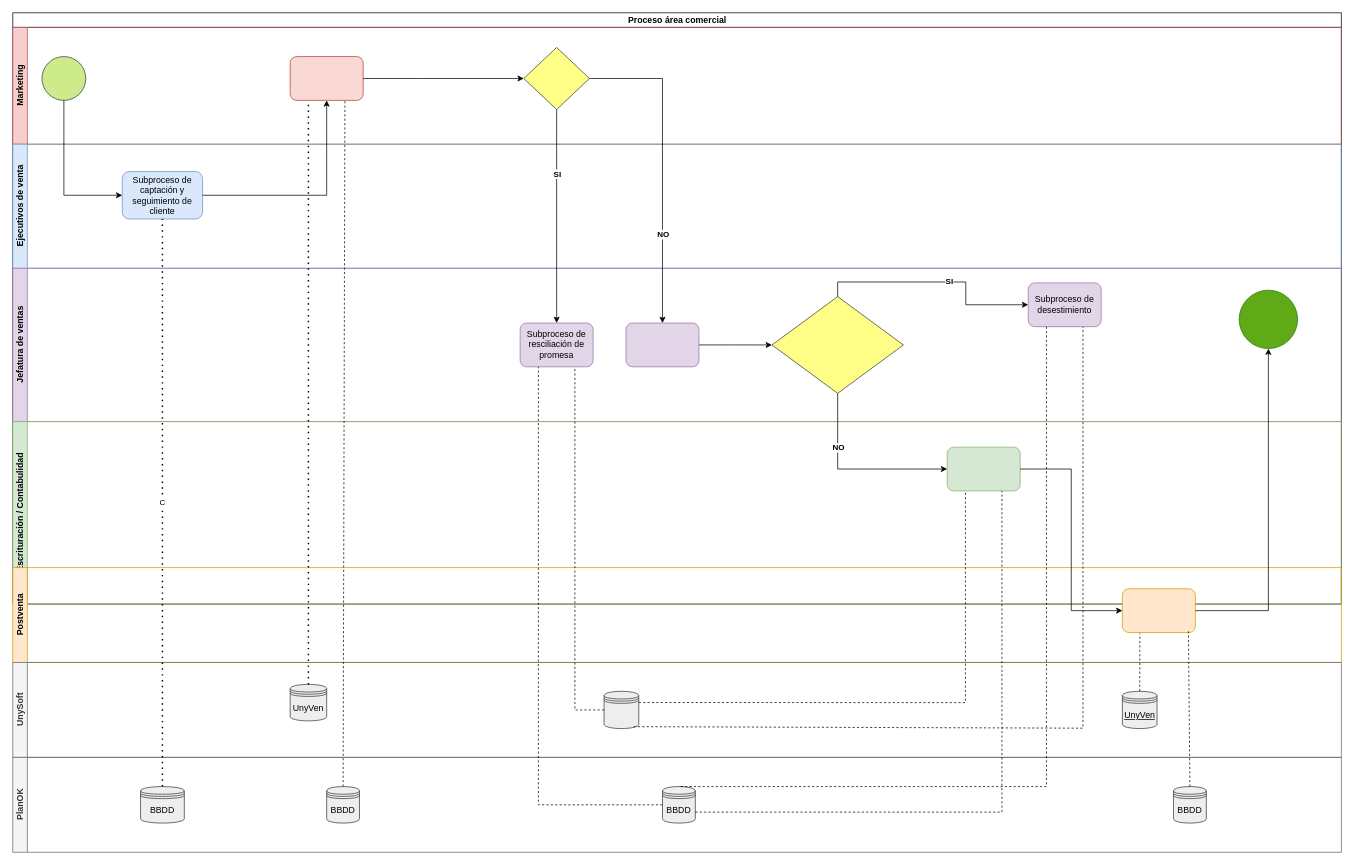
Some shapes in this 1354 by 865 pixel diagram are drawn without their labels. The shapes that lost their labels are listed below. From the top down, each one's centre as x and y in pixels, then its label:
point (63, 78): Campaña activa
point (326, 78): Subproceso de reserva
point (556, 78): ¿Cliente desiste?
point (1268, 319): Cierre exitoso
point (662, 344): Subproceso de promesa
point (837, 344): ¿Cliente desiste habiendo promesado?
point (983, 468): Proceso de escrituración
point (1158, 610): Proceso de Postventa
point (621, 710): UnyFin
